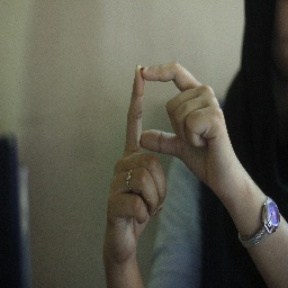D: (114, 60, 218, 187)
